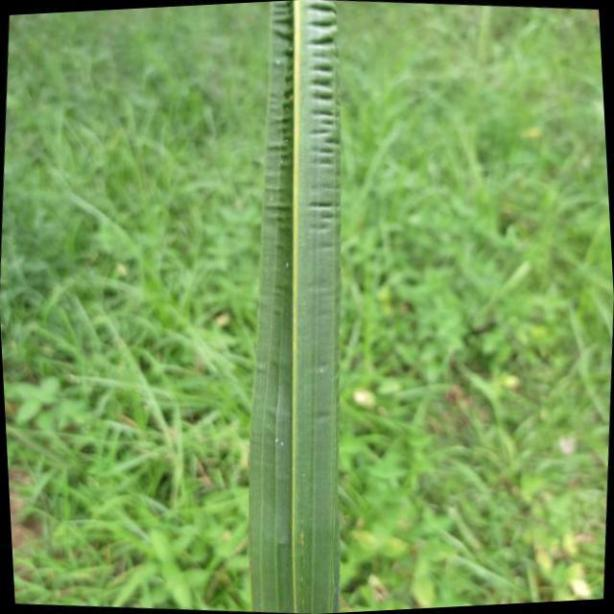Boron: (244, 0, 340, 614)
